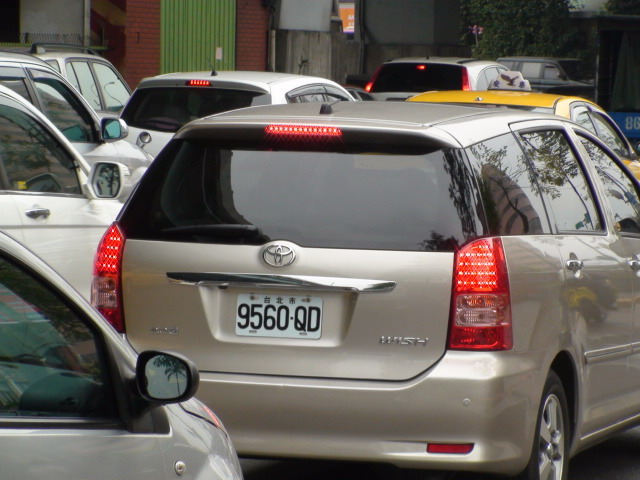plate: (233, 291, 325, 344)
